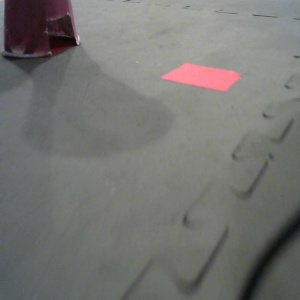middle: (1, 1, 81, 57)
